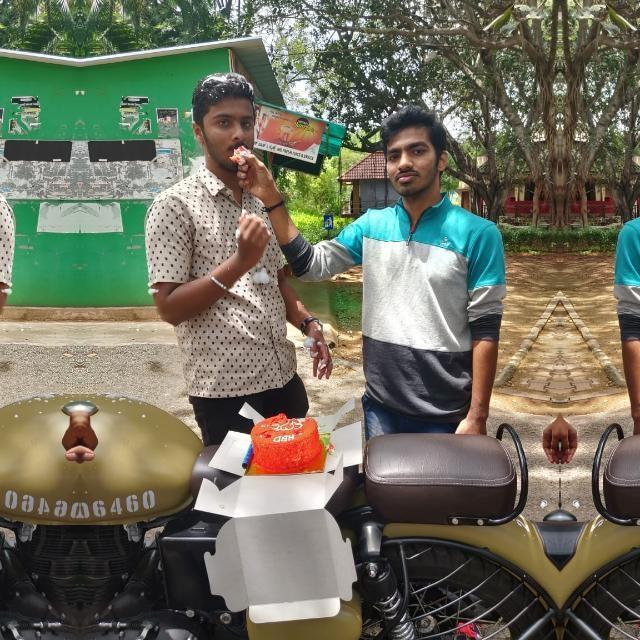person: (147, 70, 350, 470), (320, 100, 520, 436), (600, 100, 640, 436), (0, 69, 12, 470)
